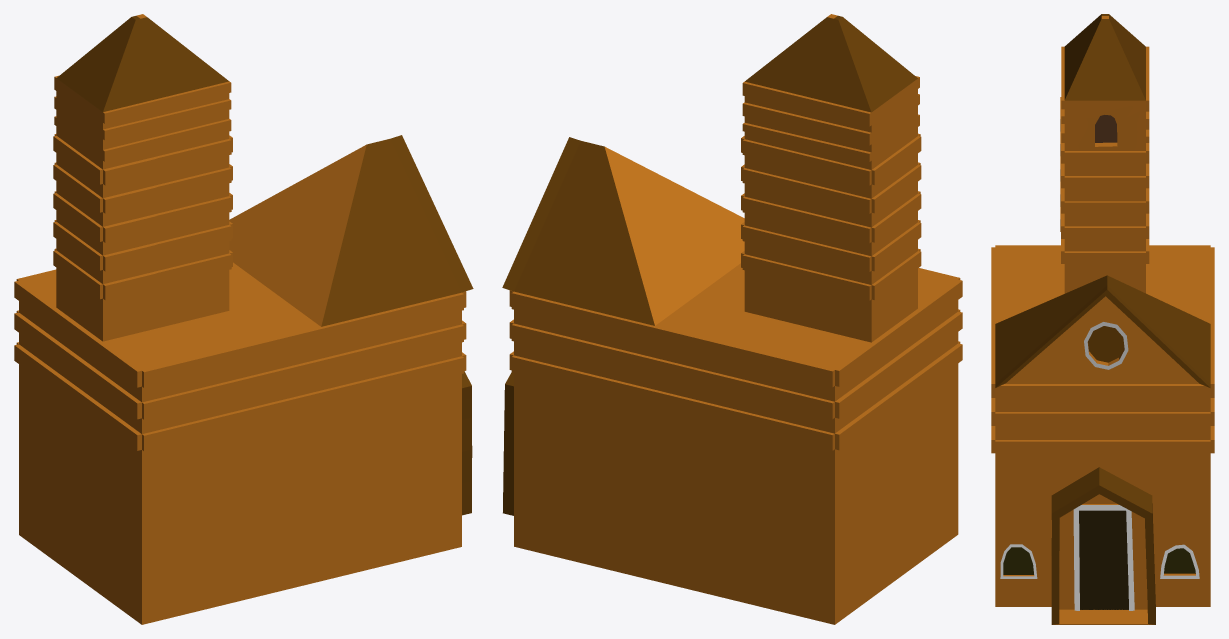
File: Church.fbx
3 renders of one model, left to right at view 1: azimuth 30°, elevation 25°; view 2: azimuth 150°, elevation 25°; view 3: azimuth 270°, elevation 25°, orthographic. The views are drawn at different scales.
Parts seen in each view (by area): view 1: Church; view 2: Church; view 3: Church.
Part boxes in pixels (x1,y1,x2,y2): Church: [14, 14, 473, 624]; Church: [502, 14, 962, 624]; Church: [991, 14, 1214, 624].
Bounding box in the file's own units: 217 × 310 × 131.
